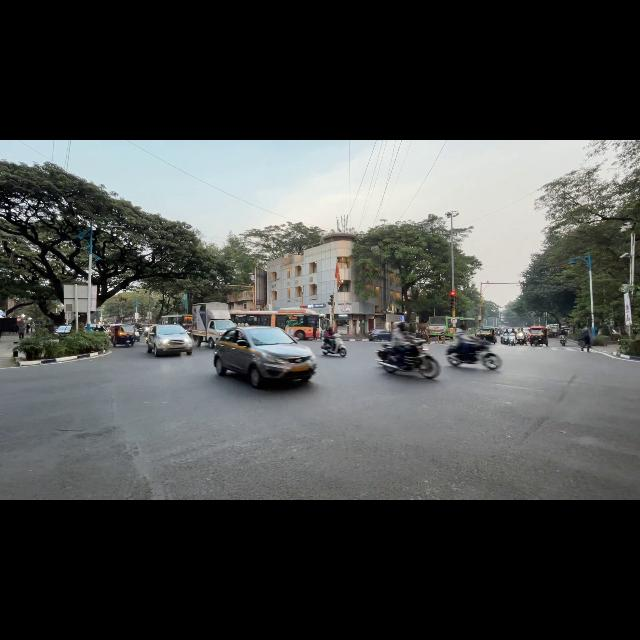bus: (230, 309, 324, 339), (275, 309, 324, 339), (230, 310, 276, 326), (429, 316, 453, 337), (160, 315, 192, 330)
car: (214, 326, 316, 388), (146, 325, 192, 356), (369, 329, 390, 341), (54, 325, 71, 338)
motorcycle: (377, 339, 440, 378), (447, 341, 501, 370), (321, 334, 346, 357), (517, 332, 527, 345), (501, 332, 509, 344), (509, 333, 516, 345), (560, 335, 566, 346)
truck: (192, 303, 235, 348)
